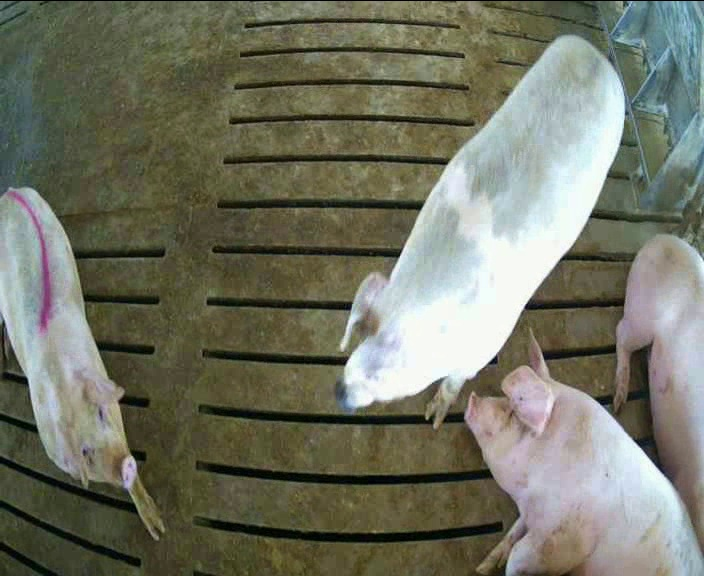pig: (337, 35, 624, 428), (614, 235, 703, 551)
